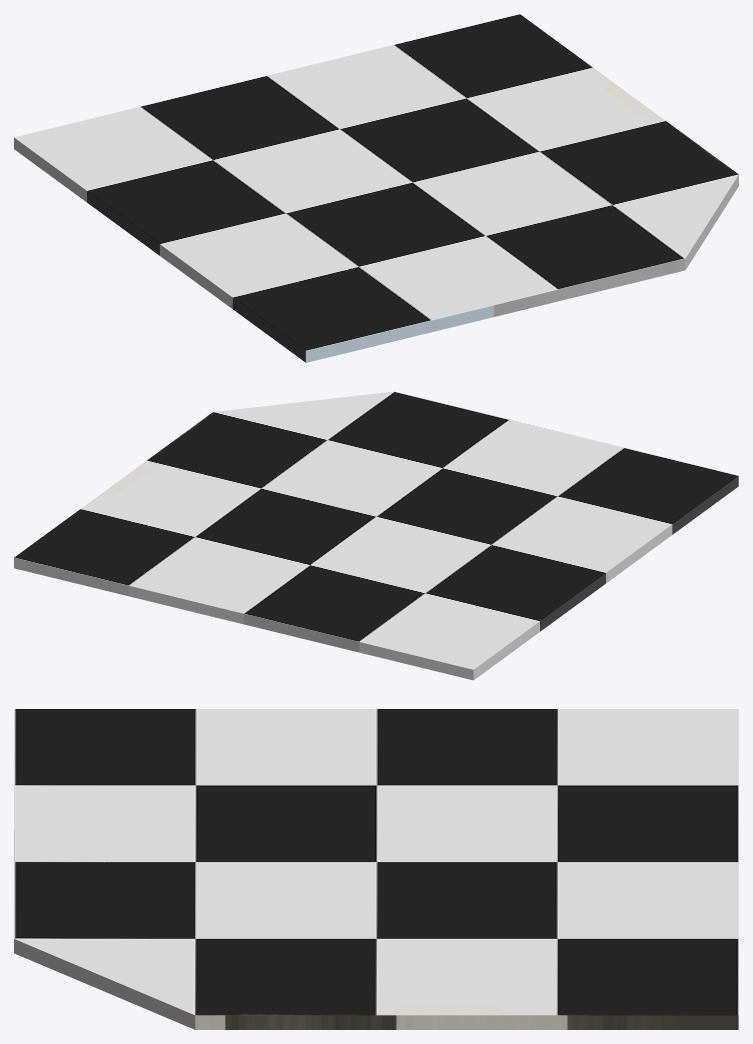
File: fbx_hamburger_ground1.fbx
The picture shows the model from 3 angles, top to bottom: view 1: azimuth 30°, elevation 25°; view 2: azimuth 150°, elevation 25°; view 3: azimuth 270°, elevation 25°; orthographic projection. The views are drawn at different scales.
Parts seen in each view (by area): view 1: fbx_hamburger_ground1; view 2: fbx_hamburger_ground1; view 3: fbx_hamburger_ground1.
Boxes of the visible parts, box(x1,y1,x2,y2) form: fbx_hamburger_ground1: box(14, 14, 738, 362); fbx_hamburger_ground1: box(14, 391, 738, 680); fbx_hamburger_ground1: box(14, 709, 738, 1029).
Size of the model in its own units: 5.3 by 0.1173 by 5.3.
Materials: 1 (1 with a texture image).
